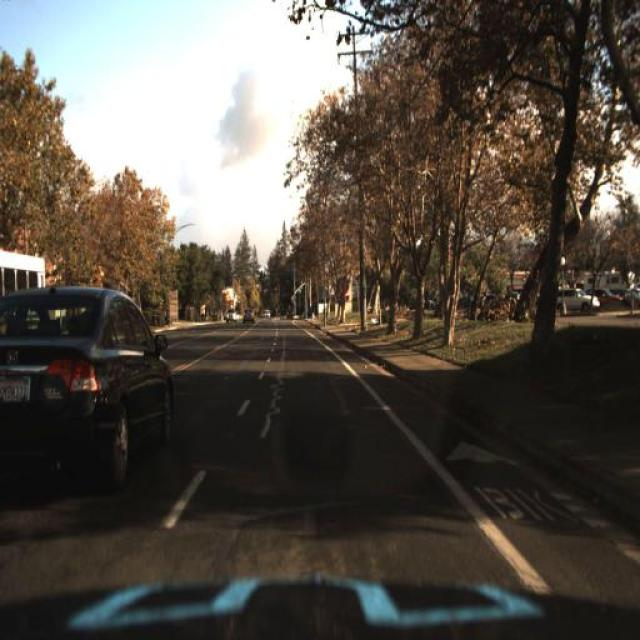car: (2, 278, 180, 491), (556, 287, 602, 311), (240, 305, 254, 326), (222, 307, 238, 324), (287, 310, 293, 320), (264, 310, 270, 318)
